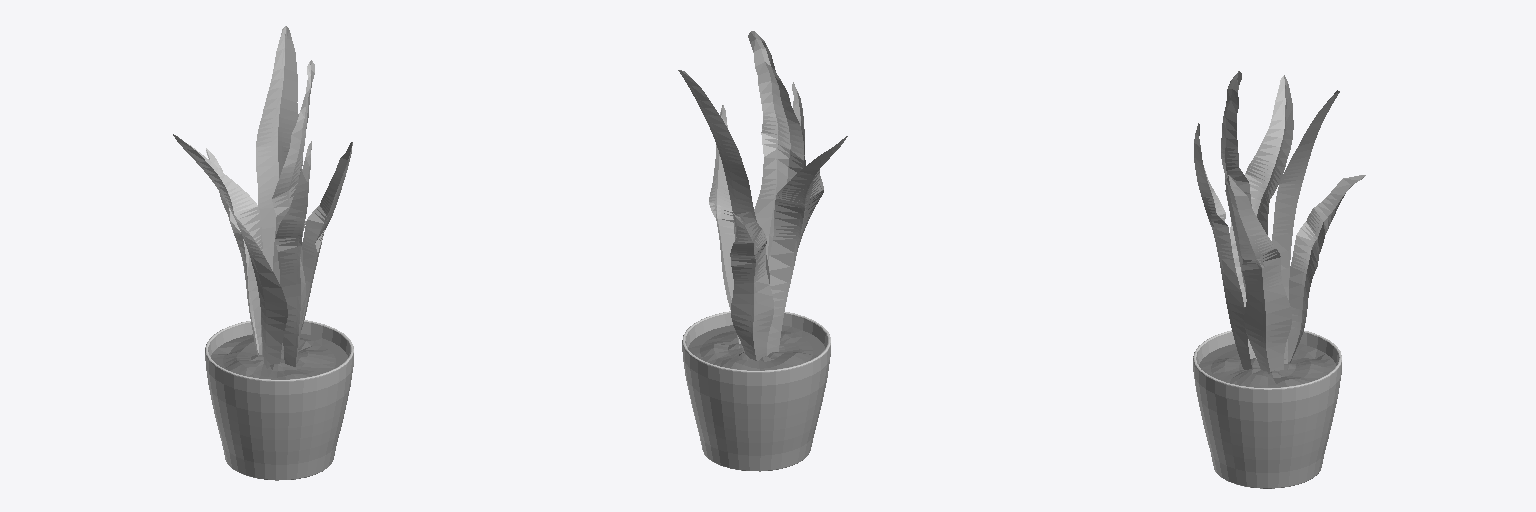
Rendered from sansevieria_1.obj.
3 renders of one model, left to right at view 1: azimuth 30°, elevation 25°; view 2: azimuth 150°, elevation 25°; view 3: azimuth 270°, elevation 25°, orthographic.
Parts seen in each view (by area): view 1: Plane.000, Circle.001, Circle.000; view 2: Plane.000, Circle.001, Circle.000; view 3: Plane.000, Circle.001, Circle.000.
Part boxes in pixels (x1,y1,x2,y2): Plane.000: (173, 26, 352, 366); Circle.001: (205, 320, 353, 480); Circle.000: (211, 334, 348, 379); Plane.000: (678, 31, 847, 360); Circle.001: (682, 311, 830, 471); Circle.000: (688, 325, 825, 370); Plane.000: (1194, 71, 1365, 371); Circle.001: (1193, 330, 1341, 488); Circle.000: (1199, 344, 1335, 387).
Bounding box in the file's own units: 2.38 × 5.58 × 2.18.